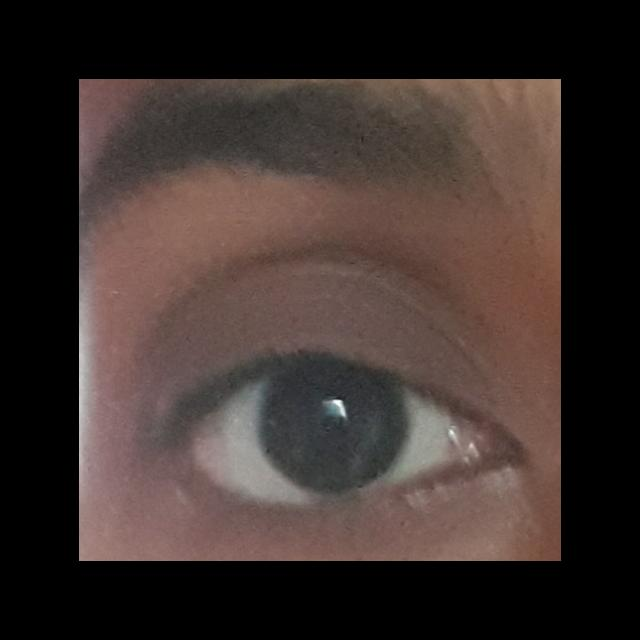eye: (213, 361, 452, 509)
iris: (258, 370, 410, 491)
